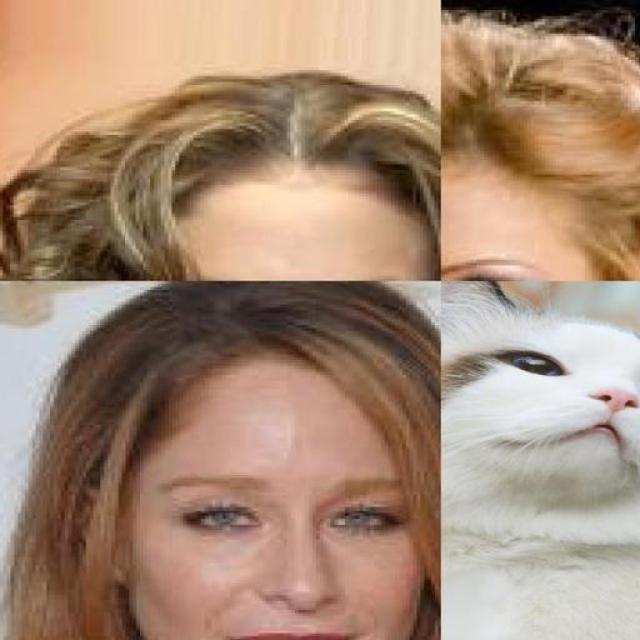bareface: (100, 360, 420, 640)
